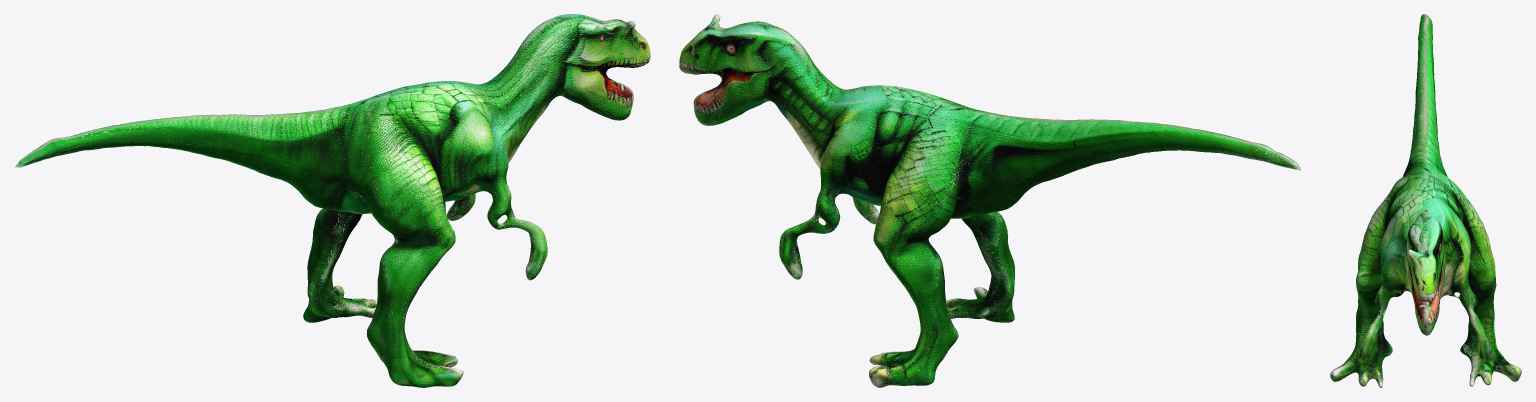
Rendered from textured_ours.glb.
The picture shows the model from 3 angles, left to right: view 1: azimuth 30°, elevation 25°; view 2: azimuth 150°, elevation 25°; view 3: azimuth 270°, elevation 25°; orthographic projection. The views are drawn at different scales.
Visible parts, largest first — view 1: Node; view 2: Node; view 3: Node.
Boxes of the visible parts, x1,y1,x2,y2 form: Node: (14, 14, 650, 387); Node: (679, 14, 1301, 387); Node: (1330, 14, 1521, 387).
Size of the model in its own units: 2 by 0.8734 by 0.653.
Materials: 1 (1 with a texture image).
